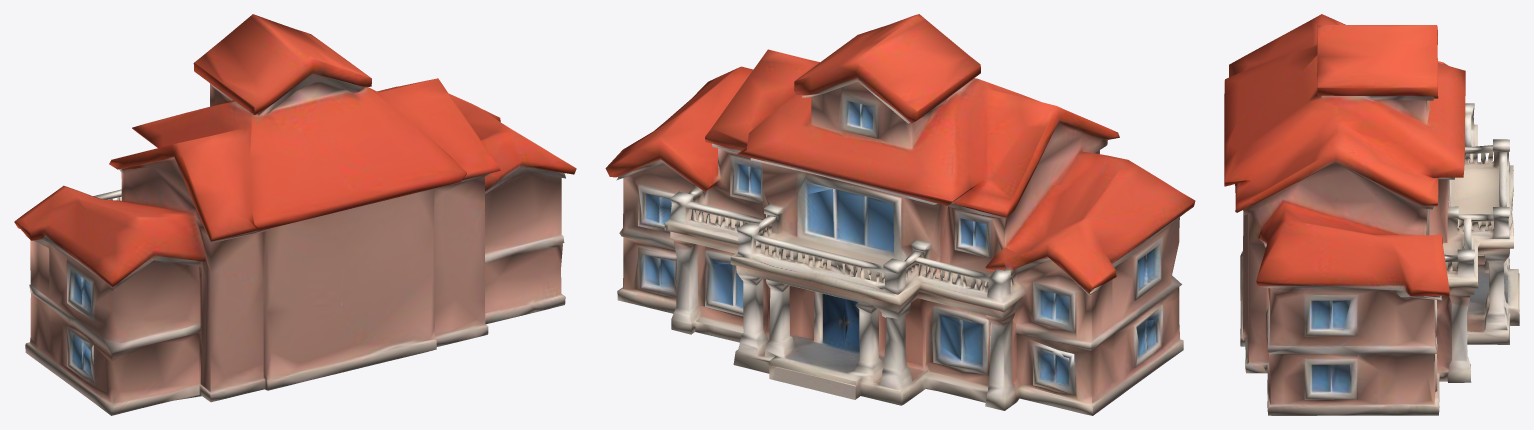
The model's file is casa-n08-784f6306.glb.
3 renders of one model, left to right at view 1: azimuth 30°, elevation 25°; view 2: azimuth 150°, elevation 25°; view 3: azimuth 270°, elevation 25°, orthographic. The views are drawn at different scales.
Visible parts, largest first — view 1: casa_n08; view 2: casa_n08; view 3: casa_n08.
Part boxes in pixels (bbox=[...]): casa_n08: bbox=[14, 14, 576, 415]; casa_n08: bbox=[605, 14, 1195, 415]; casa_n08: bbox=[1224, 14, 1519, 415].
Size of the model in its own units: 18.4 by 10.63 by 10.11.
Materials: 1 (1 with a texture image).
